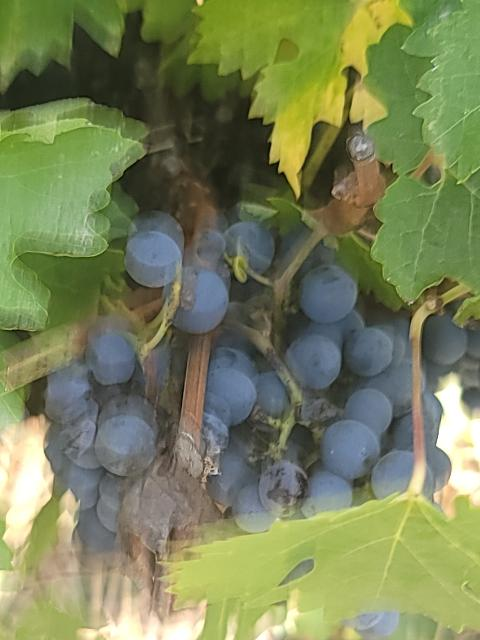grapes: (45, 184, 450, 552)
